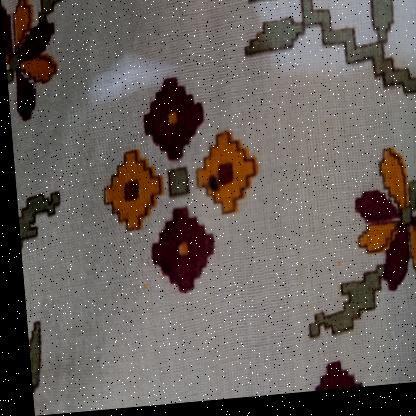spot: (201, 175, 218, 196), (327, 263, 338, 277), (132, 282, 143, 295), (149, 276, 159, 287)
